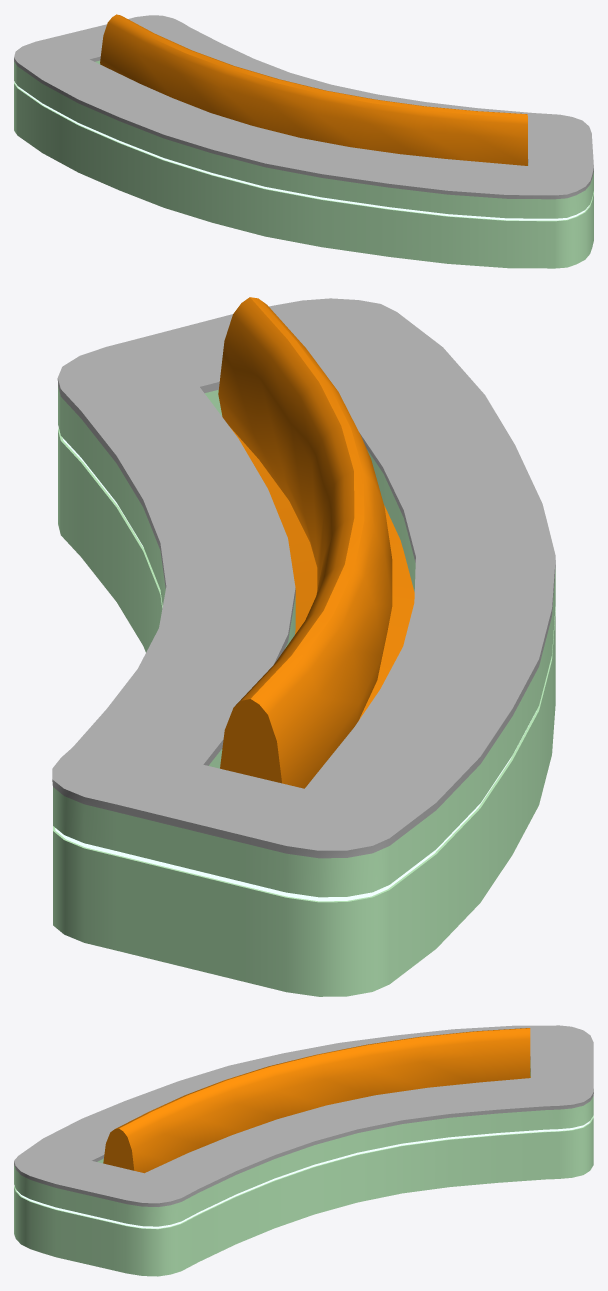
Rendered from bancone_primo.glb.
3 views of the same model, one above another, from view 1: azimuth 30°, elevation 25°; view 2: azimuth 150°, elevation 25°; view 3: azimuth 270°, elevation 25° (orthographic). The views are drawn at different scales.
Visible parts, largest first — view 1: bancone_primoP; view 2: bancone_primoP; view 3: bancone_primoP.
Boxes of the visible parts, left/top/right/bottom form: bancone_primoP: left=14, top=14, right=593, bottom=268; bancone_primoP: left=52, top=297, right=555, bottom=996; bancone_primoP: left=14, top=1025, right=593, bottom=1276.
Bounding box in the file's own units: 5.81 × 1.7 × 8.
